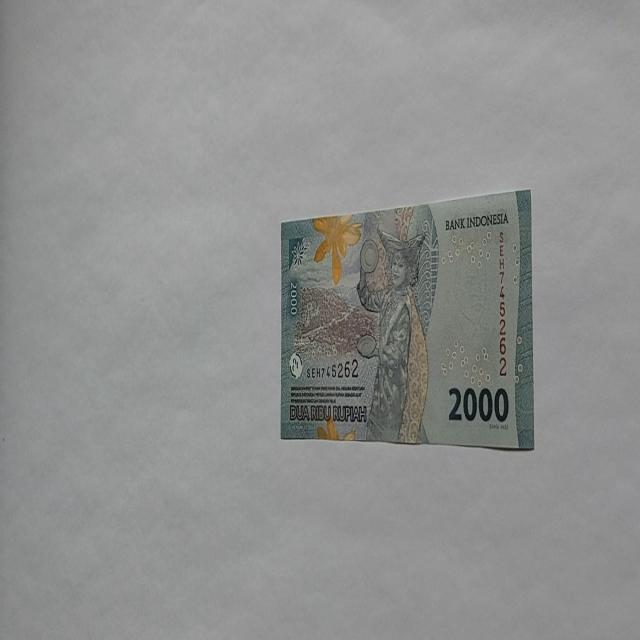dua ribu rupiah: (279, 186, 534, 450), (354, 225, 430, 442)
